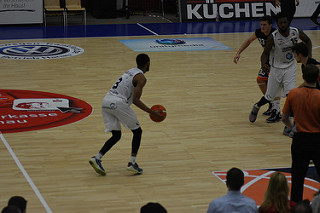basketball: (149, 104, 167, 123)
